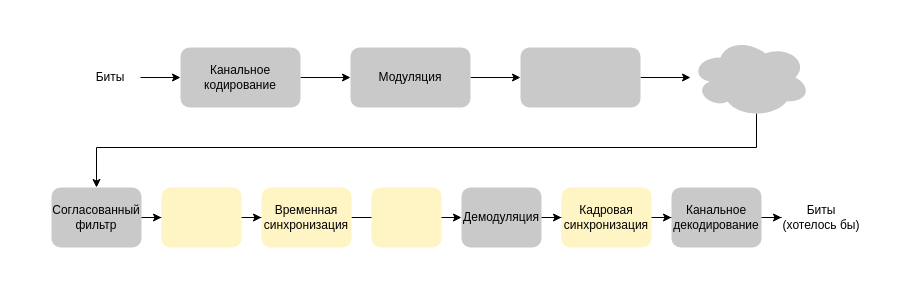
The diagram is 905 pixels wide and 295 high, and some of its shapes have lost their labels. The shapes that lost their labels are listed below. From the top down, each one's centre as x and y in pixels, then its label:
At pixel 580 77: "Формирование импульса".
At pixel 750 77: "Беспроводной канал".
At pixel 201 217: "Грубая подстройка частоты".
At pixel 406 217: "Мягкая подстройка частоты".
